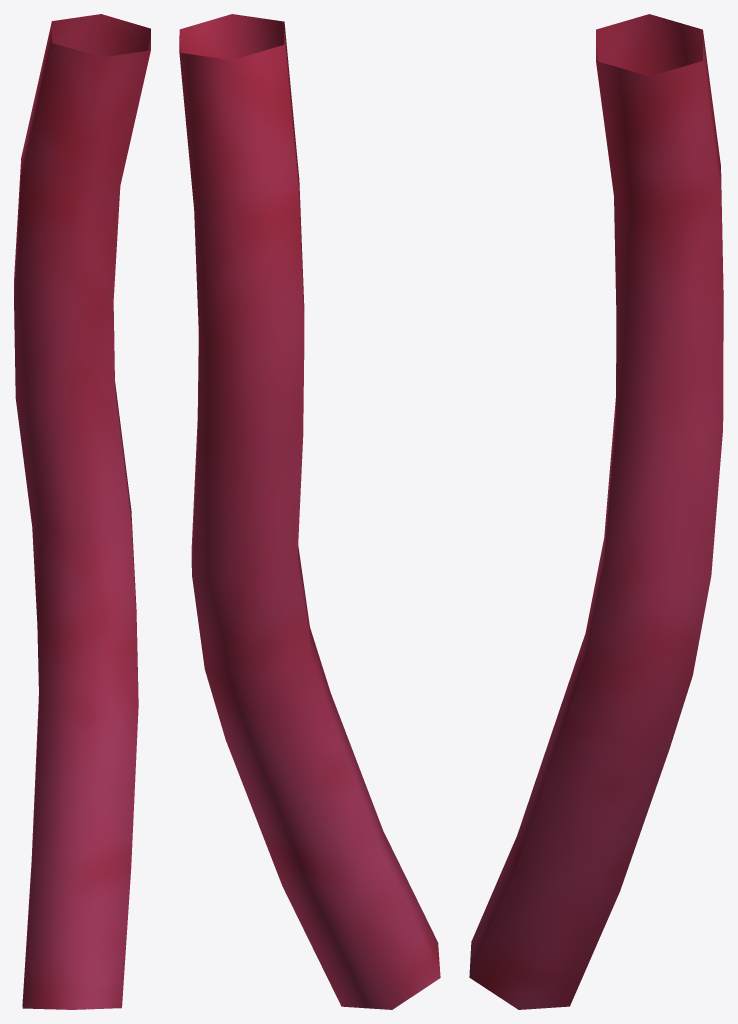
Rendered from VeinLargeC.fbx.
3 renders of one model, left to right at view 1: azimuth 30°, elevation 25°; view 2: azimuth 150°, elevation 25°; view 3: azimuth 270°, elevation 25°, orthographic. The views are drawn at different scales.
Visible parts, largest first — view 1: VeinLargeC; view 2: VeinLargeC; view 3: VeinLargeC.
Part boxes in pixels (box(x1,y1,x2,y2)): VeinLargeC: box(14, 14, 150, 1009); VeinLargeC: box(179, 14, 440, 1009); VeinLargeC: box(469, 14, 723, 1009).
Size of the model in its own units: 158 by 751 by 173.
